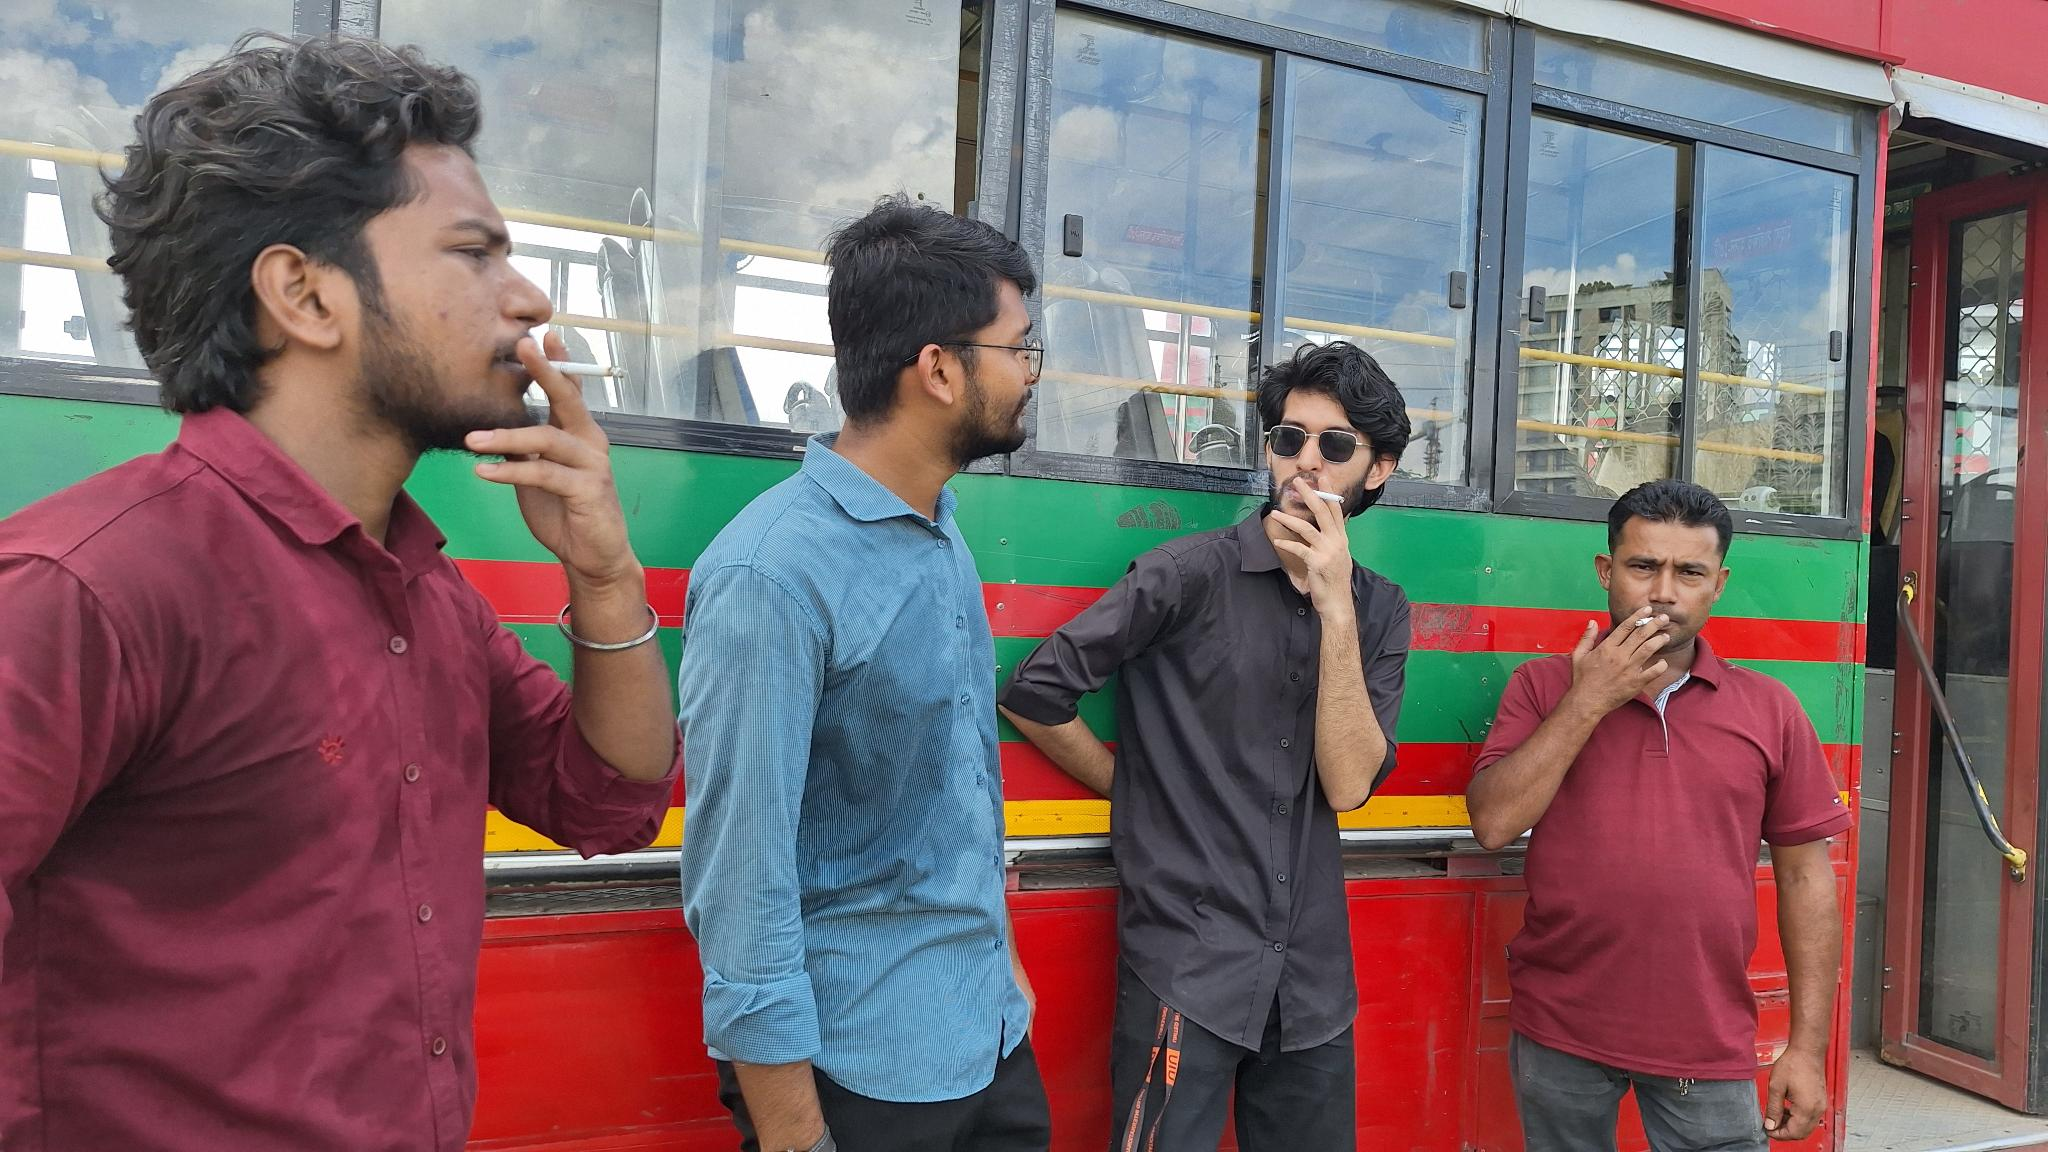cigarette: (542, 356, 632, 384), (1305, 488, 1346, 506), (1633, 615, 1656, 630)
nonSmoker: (672, 204, 1051, 1152)
smoker: (0, 44, 684, 1152), (997, 345, 1414, 1152), (1466, 477, 1855, 1151)
